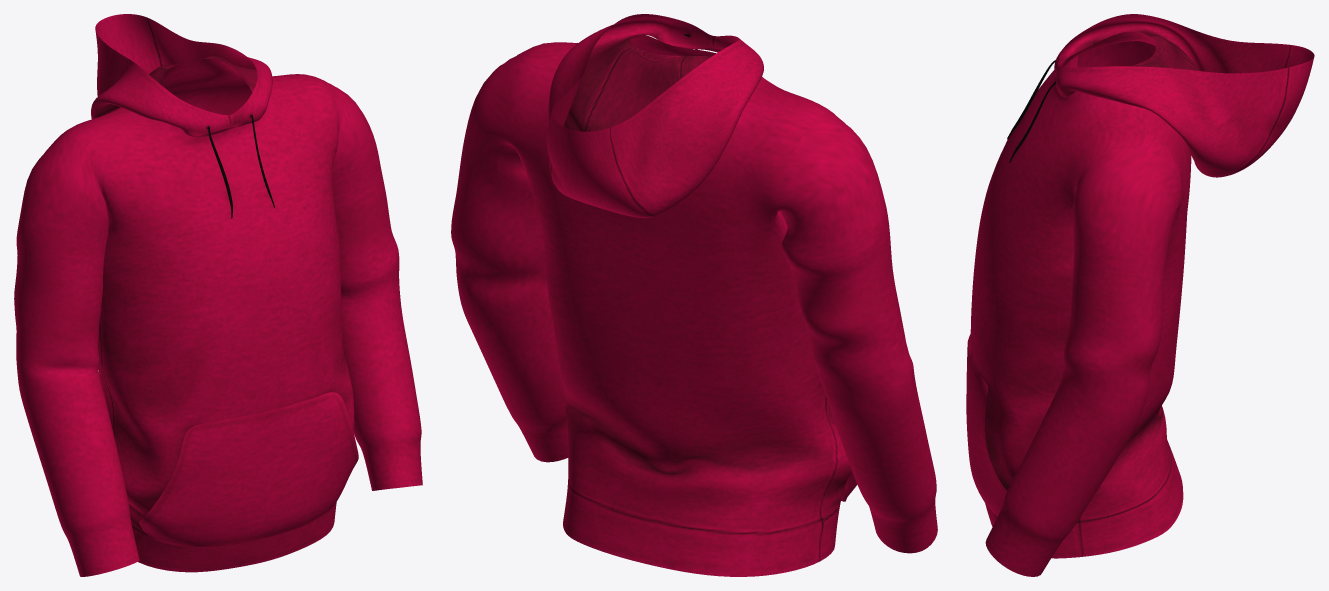
File: Hoodie_Maroon.glb
3 renders of one model, left to right at view 1: azimuth 30°, elevation 25°; view 2: azimuth 150°, elevation 25°; view 3: azimuth 270°, elevation 25°, orthographic. The views are drawn at different scales.
Parts seen in each view (by area): view 1: Hoodie_Geo; view 2: Hoodie_Geo; view 3: Hoodie_Geo.
Boxes of the visible parts, left/top/right/bottom form: Hoodie_Geo: left=14, top=14, right=422, bottom=576; Hoodie_Geo: left=451, top=14, right=937, bottom=576; Hoodie_Geo: left=966, top=14, right=1314, bottom=576.
Bounding box in the file's own units: 0.7018 × 0.8021 × 0.5322.
Materials: 1 (1 with a texture image).
